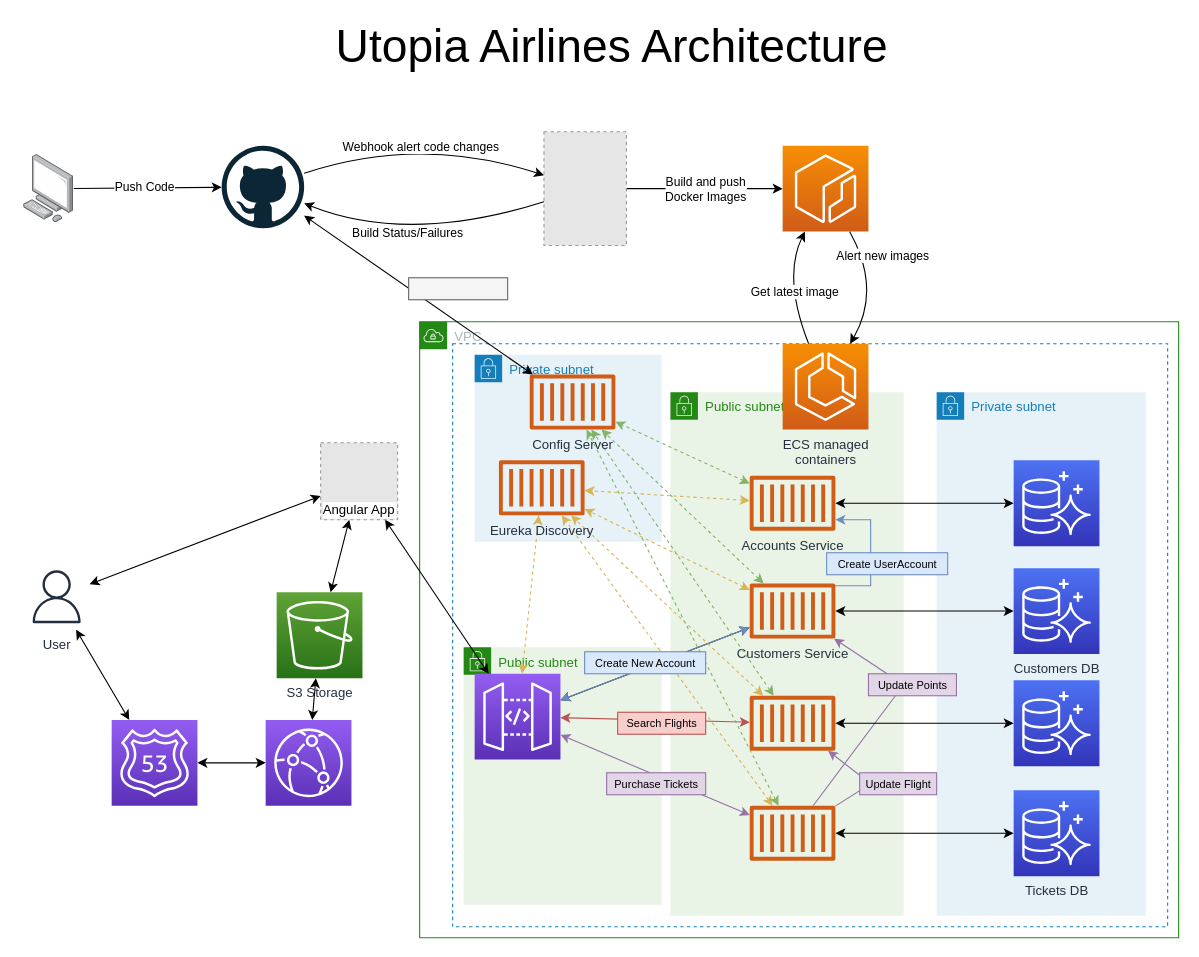
The diagram is 1199 pixels wide and 957 high, and some of its shapes have lost their labels. Grey dashed boxes stand in for pictures. Here are the shapes that lost their labels. From the top down, the box of each, then its label:
(23, 154, 73, 222): Developer
(782, 145, 868, 232): Elastic Container Registry
(408, 277, 508, 300): Get Config Files
(1013, 459, 1099, 546): Accounts DB
(452, 343, 1168, 927): Availability Zone
(474, 673, 560, 760): Public Gateway
(749, 695, 835, 750): Flights Service
(1013, 679, 1099, 766): Flights DB
(111, 719, 197, 806): utopia-air.click
(265, 719, 351, 806): CloudFront
(749, 805, 835, 860): Tickets Service
